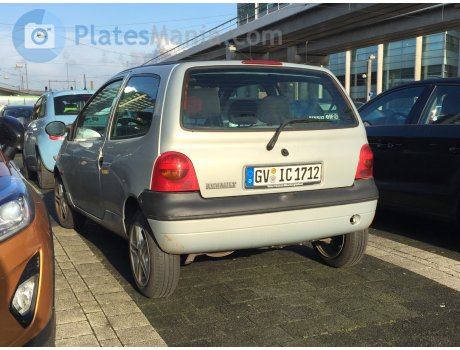License Plates: (253, 160, 324, 182)
